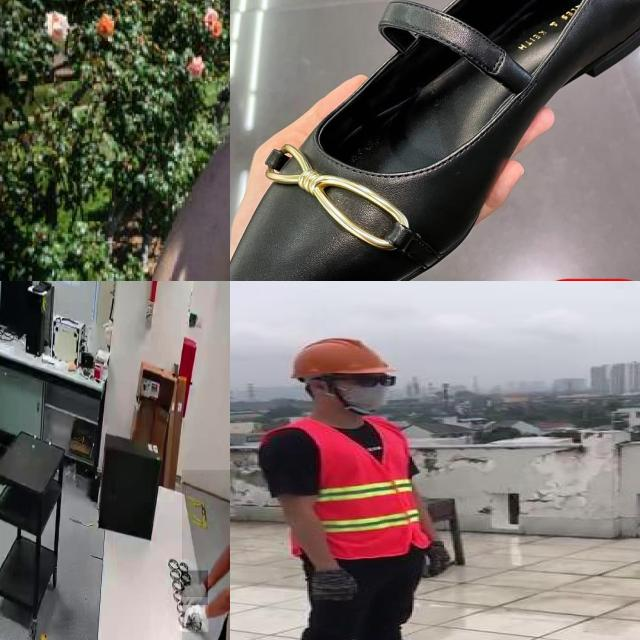Sandals: (230, 0, 640, 281)
face_mask: (330, 370, 400, 411)
glasses: (332, 371, 403, 392)
hand_glove: (302, 566, 360, 604), (418, 543, 458, 581), (180, 597, 208, 632), (181, 571, 208, 605)
head_helmet: (282, 336, 398, 379)
person: (252, 332, 464, 640), (131, 0, 230, 281), (182, 470, 230, 640)
vest: (261, 414, 424, 559)
